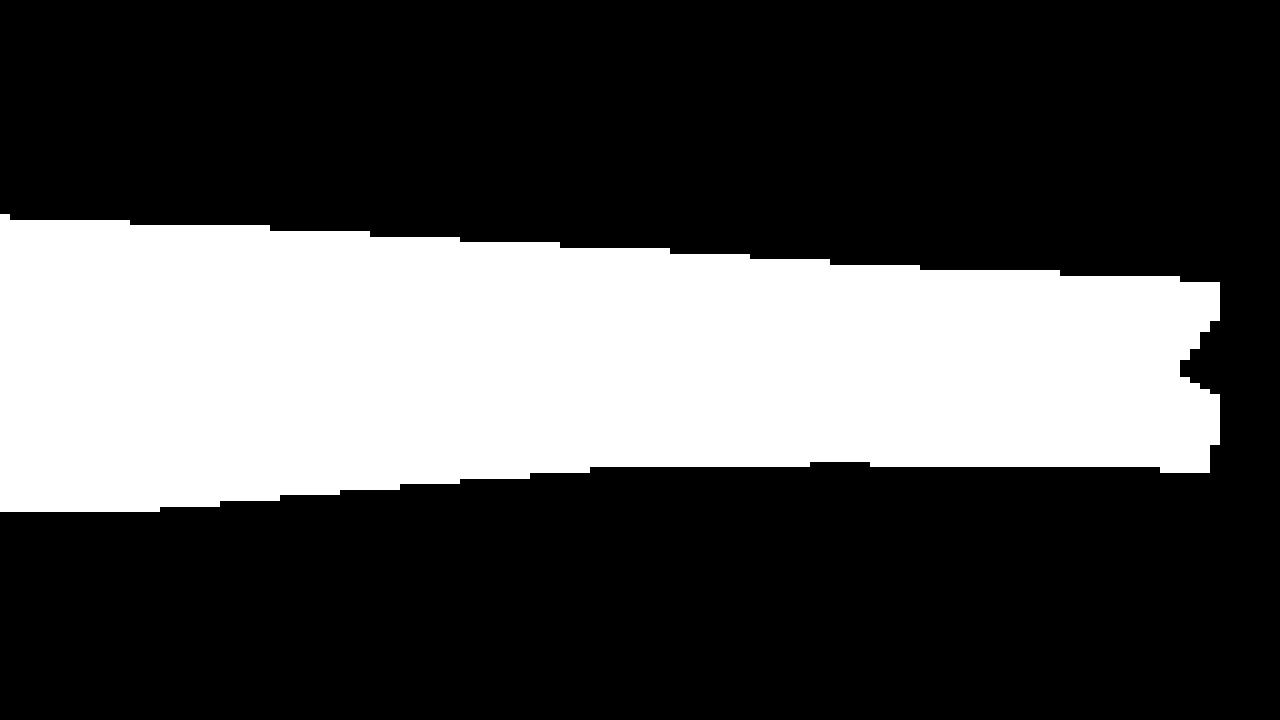Turbine: (11, 205, 1241, 523)
